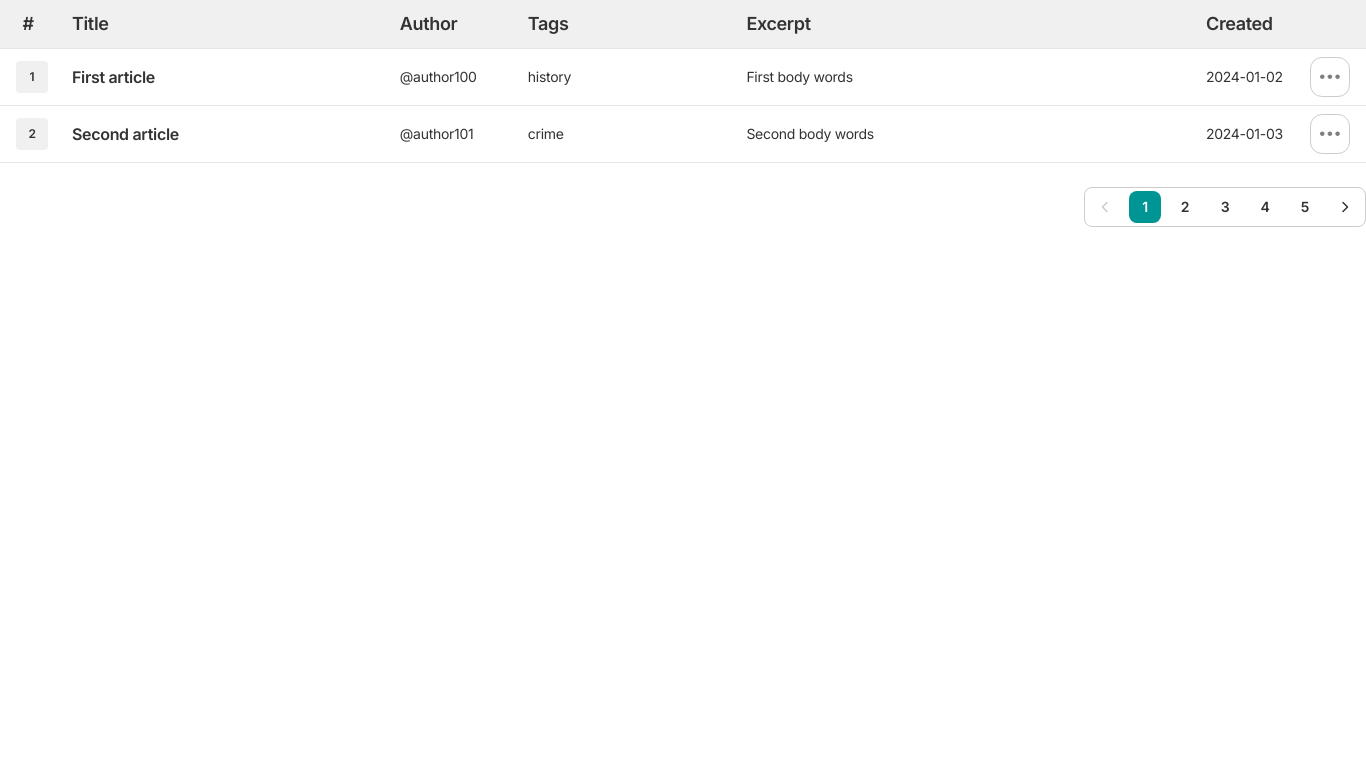
Test case: ArticlesList › optimistically removes a row on confirmed delete
The image size is (1366, 768).
Click the button named "Actions for First article": (1330, 76) [1310,56,1350,96]
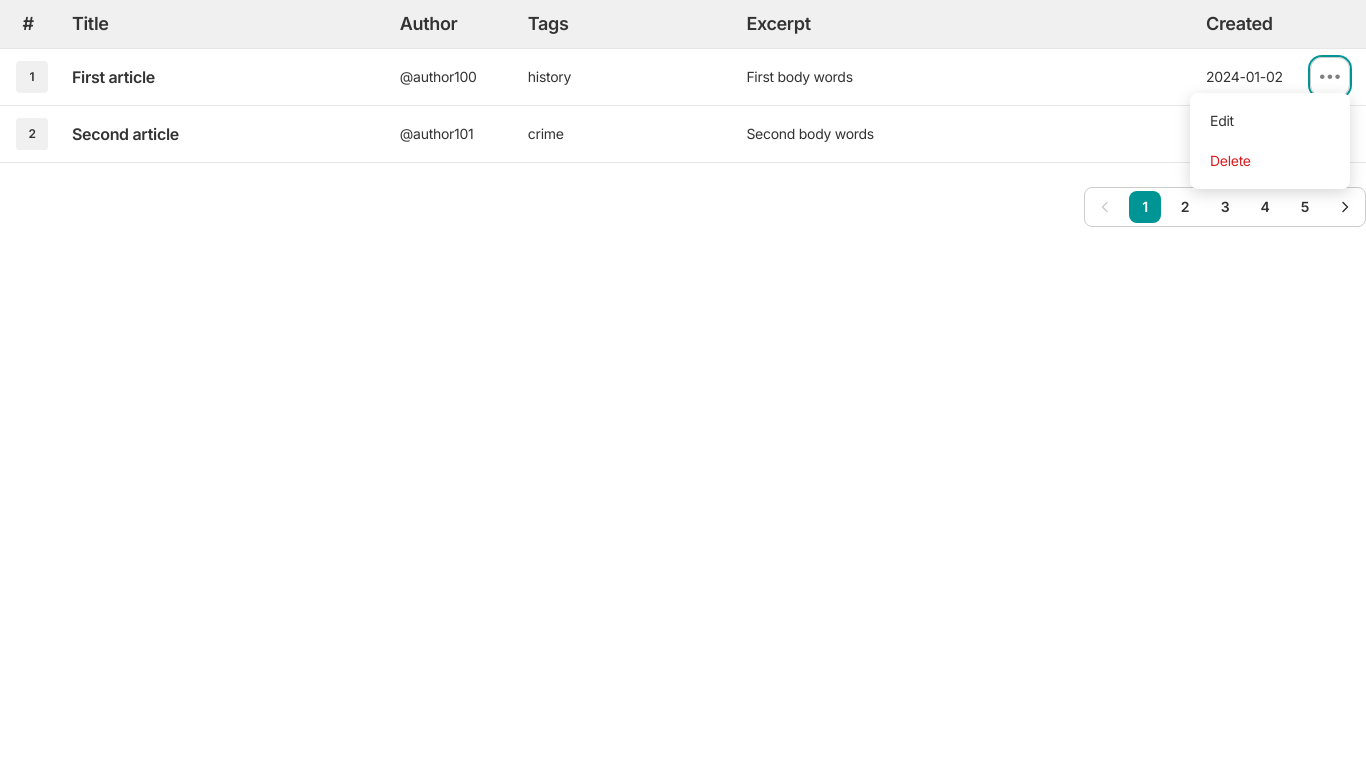
Click the menu item "Delete": (1270, 160) [1198,140,1342,180]
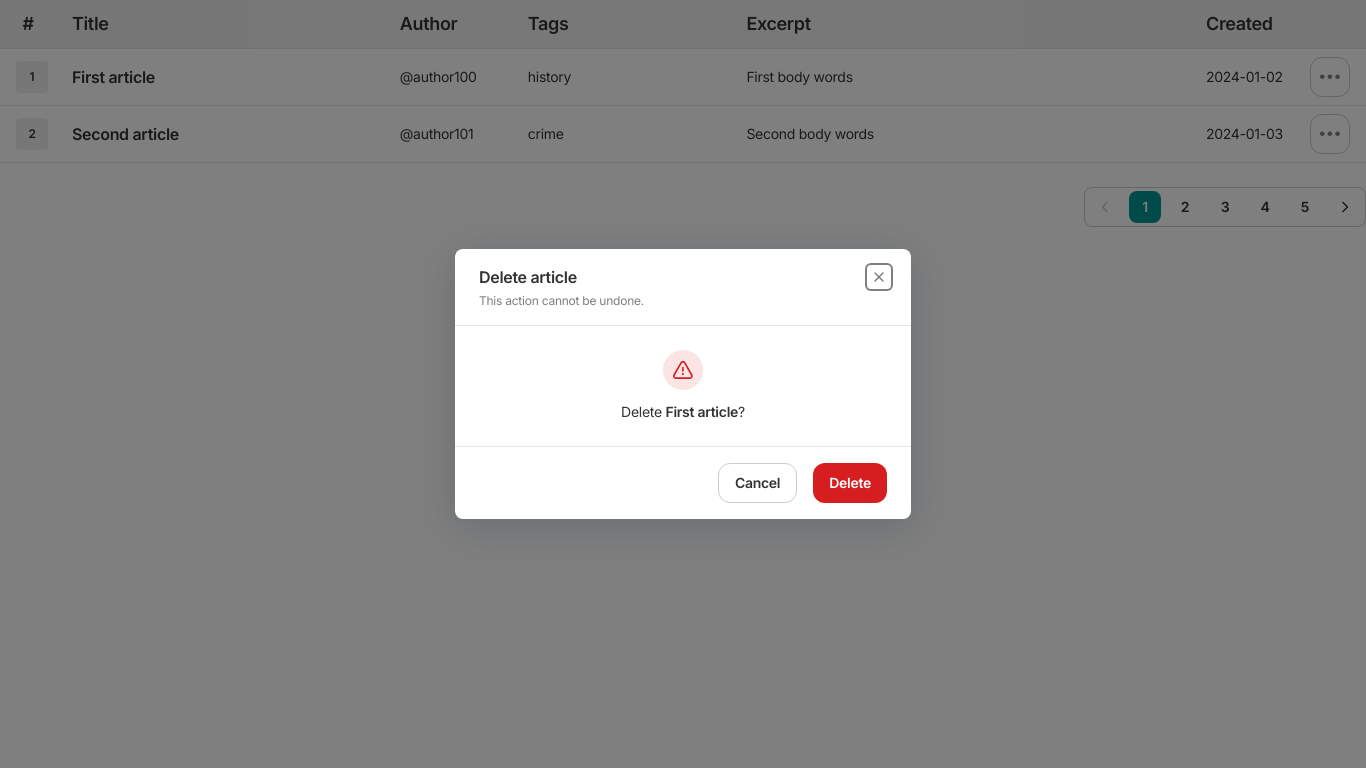
Note: Confirm dialog → click its Delete button.
Click the button "Delete": (850, 483) [813,463,887,503]
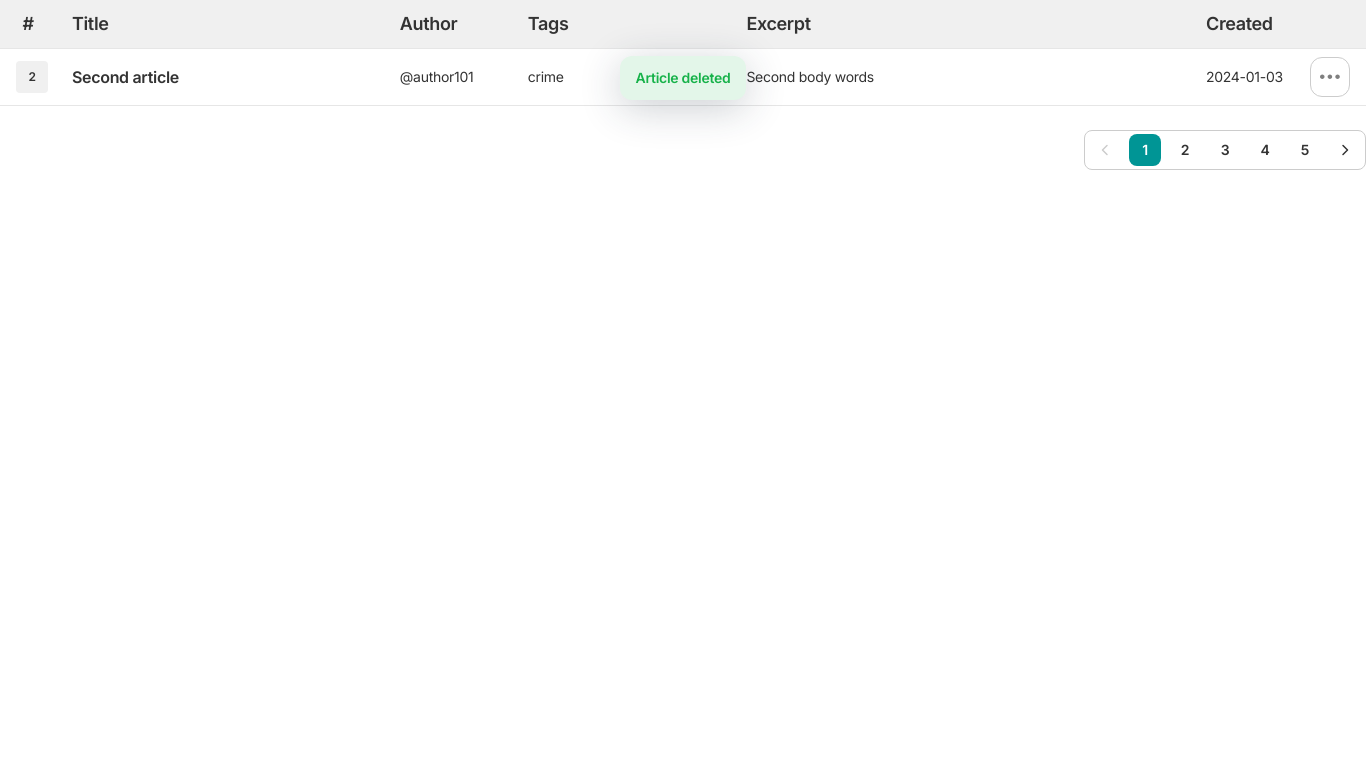
Expected: the text "Second article" is shown, [56,48,384,105]
Expected: the text "First article" is gone
